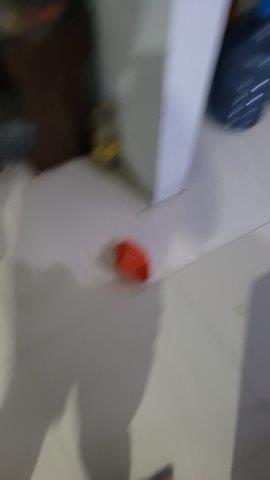plastik: (110, 240, 154, 286)
